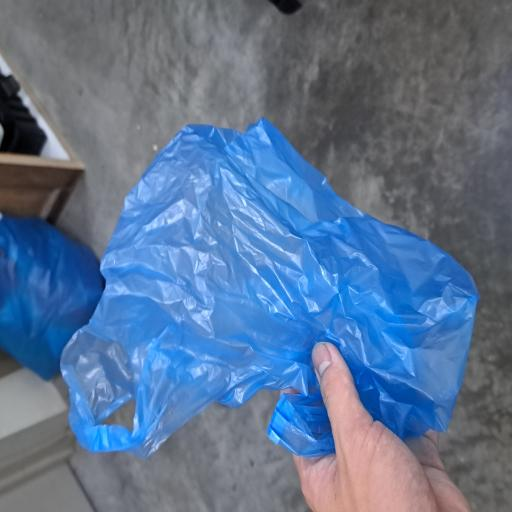plastic bag: (35, 51, 454, 396), (405, 132, 512, 303)
